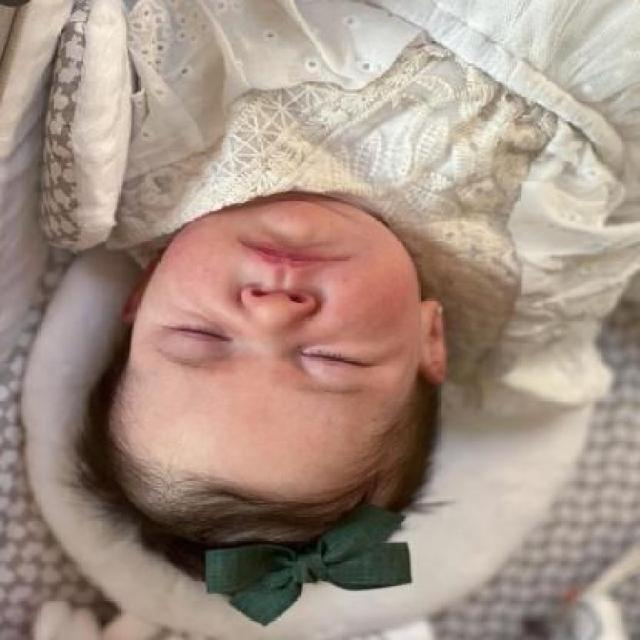baby: (60, 0, 640, 632)
